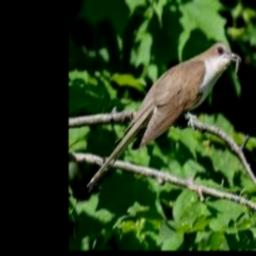Cuckoo: (86, 41, 241, 193)
